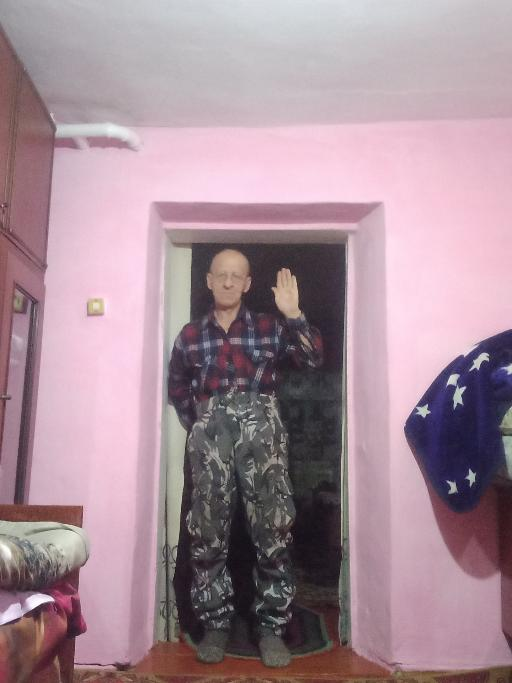stop: (270, 266, 300, 316)
